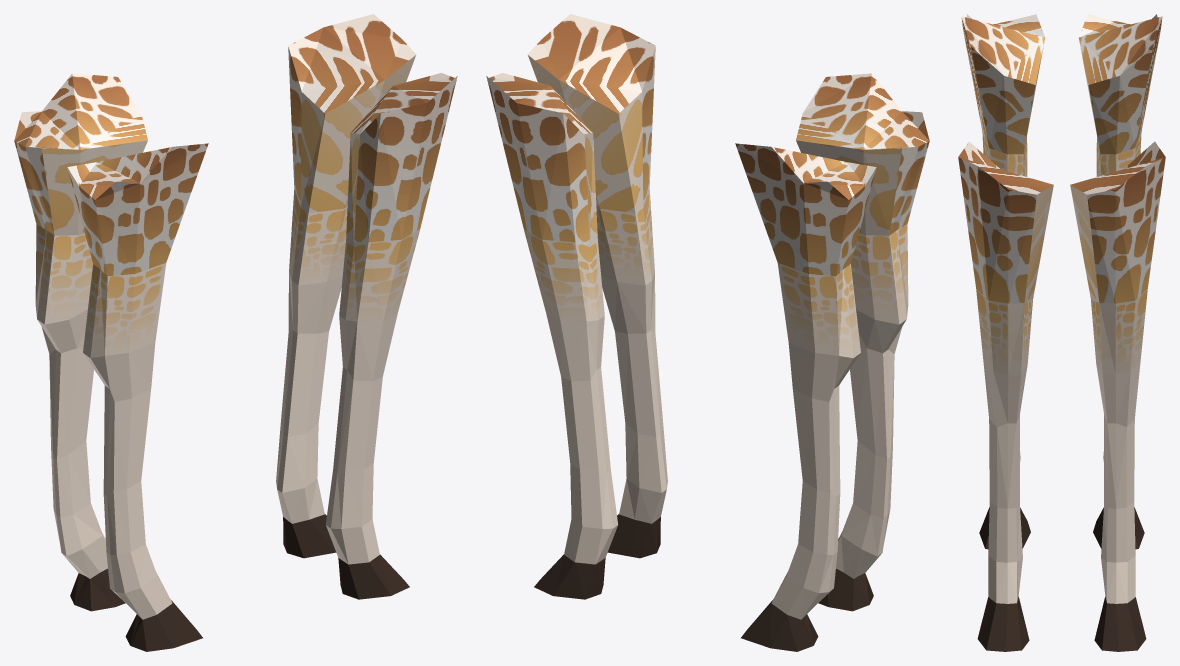
The model's file is giraffe_legs.obj.
3 renders of one model, left to right at view 1: azimuth 30°, elevation 25°; view 2: azimuth 150°, elevation 25°; view 3: azimuth 270°, elevation 25°, orthographic.
Visible parts, largest first — view 1: Plane.003; view 2: Plane.003; view 3: Plane.003.
Boxes of the visible parts, left/top/right/bottom form: Plane.003: left=14, top=14, right=457, bottom=651; Plane.003: left=486, top=14, right=929, bottom=651; Plane.003: left=958, top=14, right=1165, bottom=651.
Size of the model in its own units: 1.64 by 2.12 by 0.7811.
Materials: 4 (3 with a texture image).
